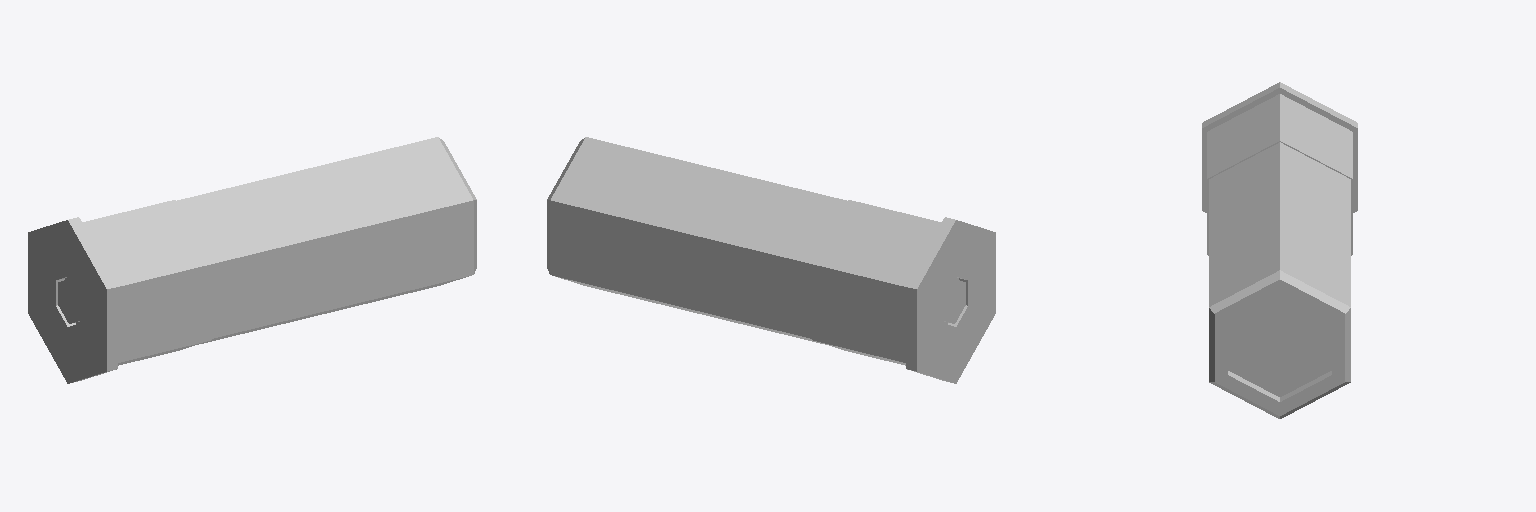
Rendered from 12gauge.obj.
3 renders of one model, left to right at view 1: azimuth 30°, elevation 25°; view 2: azimuth 150°, elevation 25°; view 3: azimuth 270°, elevation 25°, orthographic.
Visible parts, largest first — view 1: bulletModel; view 2: bulletModel; view 3: bulletModel.
Part boxes in pixels (bbox=[...]): bulletModel: bbox=[28, 137, 476, 383]; bulletModel: bbox=[547, 137, 995, 383]; bulletModel: bbox=[1202, 82, 1357, 418].
Bounding box in the file's own units: 1.06 × 0.4413 × 0.3822.